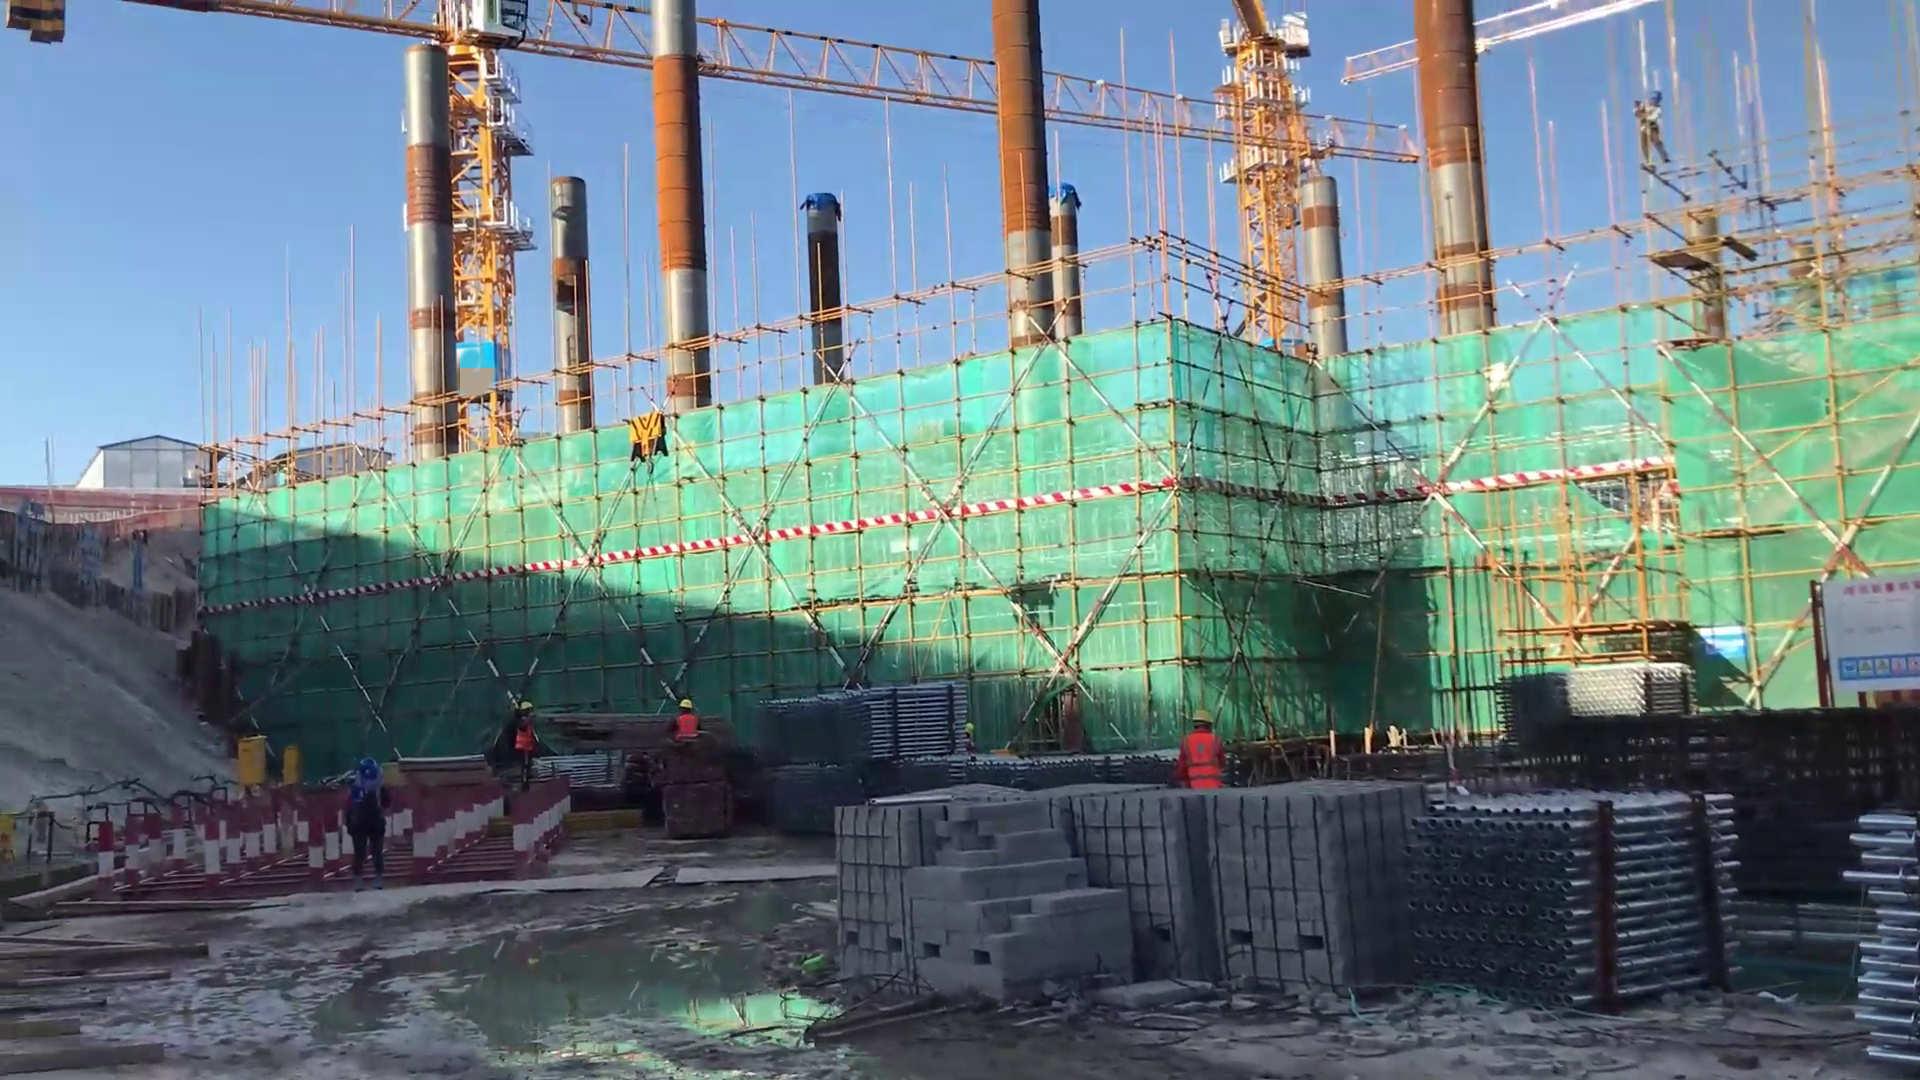brick: (791, 778, 1397, 1007)
ebox: (232, 729, 266, 790), (280, 744, 306, 786)
helmet: (1184, 702, 1226, 738), (343, 755, 381, 778), (516, 701, 542, 724), (1646, 86, 1665, 106), (672, 696, 688, 705)
hook: (624, 405, 667, 464)
person: (332, 750, 396, 883), (1165, 698, 1233, 790), (482, 698, 540, 797), (1623, 79, 1678, 165), (665, 692, 701, 740)
scaffold: (1410, 786, 1711, 1001), (1819, 808, 1920, 1048), (754, 681, 951, 778), (1518, 655, 1693, 727)
slogan: (1830, 652, 1920, 699)
vest: (344, 780, 381, 848), (507, 721, 536, 764), (1631, 104, 1665, 136), (672, 714, 699, 733)
